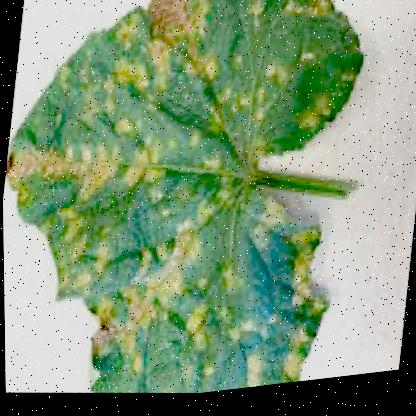DownyMildew: (69, 131, 263, 409), (0, 9, 220, 248), (130, 0, 318, 183)
